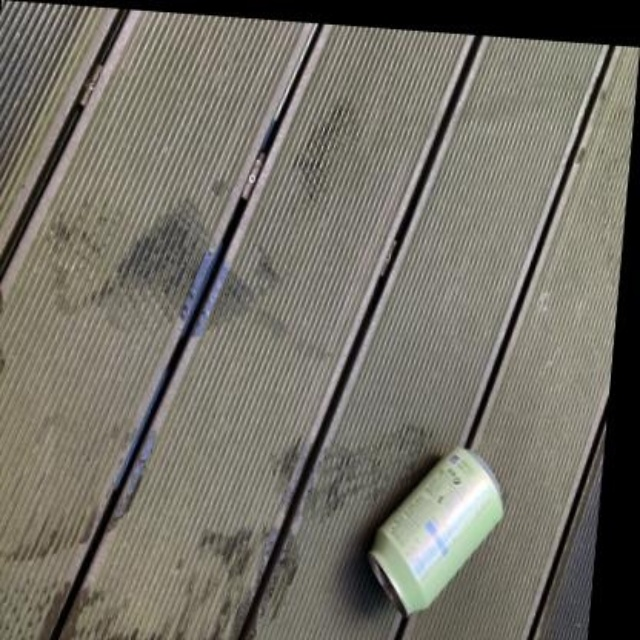trash: (369, 448, 502, 612)
